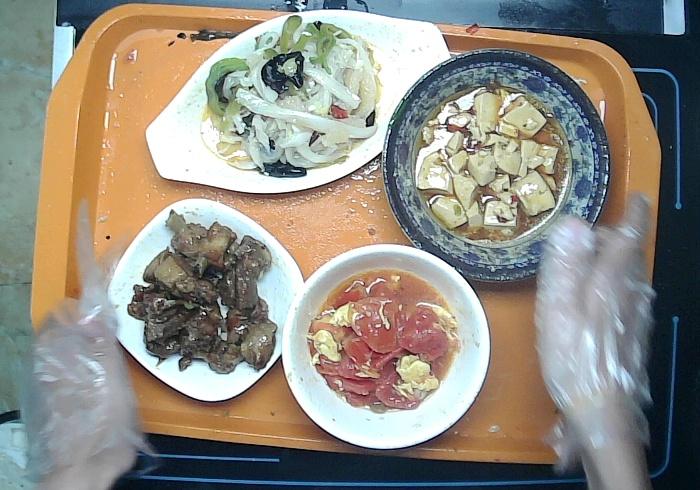ZNLD-Qing_Hua_Wan: (374, 38, 614, 294)
ZNLD-Si_Fang_Wan: (93, 193, 311, 418)
ZNLD-Tang_Wan: (276, 239, 508, 458)
ZNLD-Yu_Pan: (134, 6, 457, 207)
